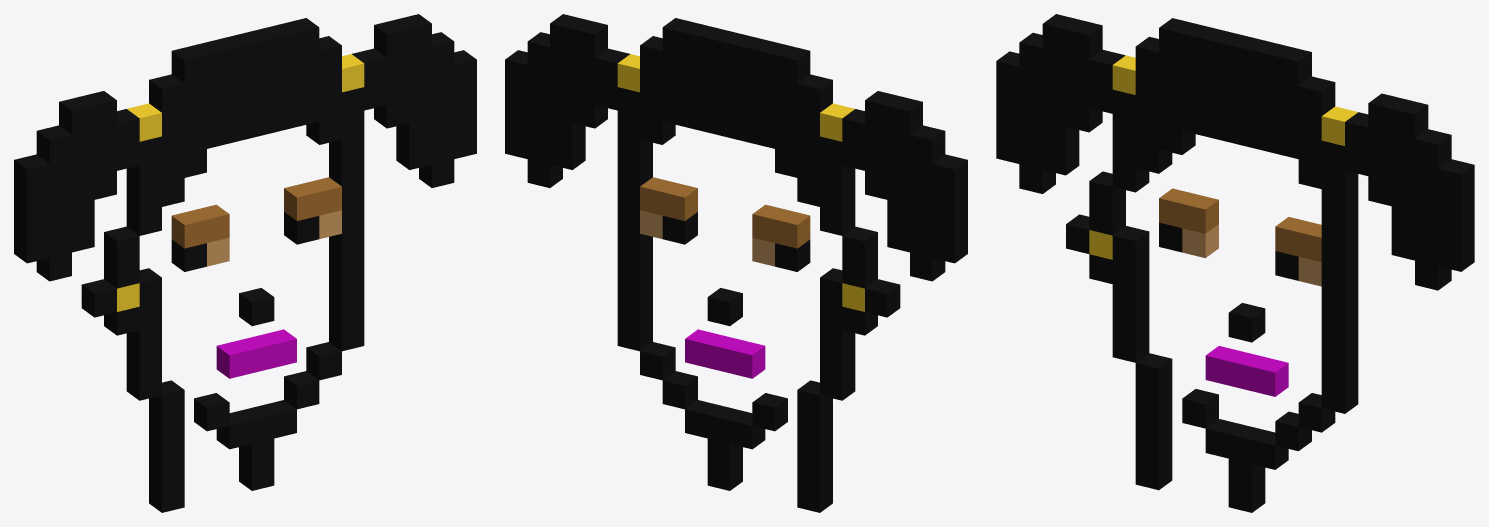
3 renders of one model, left to right at view 1: azimuth 30°, elevation 25°; view 2: azimuth 150°, elevation 25°; view 3: azimuth 330°, elevation 25°, orthographic. The views are drawn at different scales.
Visible parts, largest first — view 1: NoPunk_6844_Mesh; view 2: NoPunk_6844_Mesh; view 3: NoPunk_6844_Mesh.
Boxes of the visible parts, x1,y1,x2,y2 form: NoPunk_6844_Mesh: (14, 14, 476, 512); NoPunk_6844_Mesh: (505, 14, 967, 512); NoPunk_6844_Mesh: (996, 14, 1474, 512).
Size of the model in its own units: 20 by 19 by 1.
